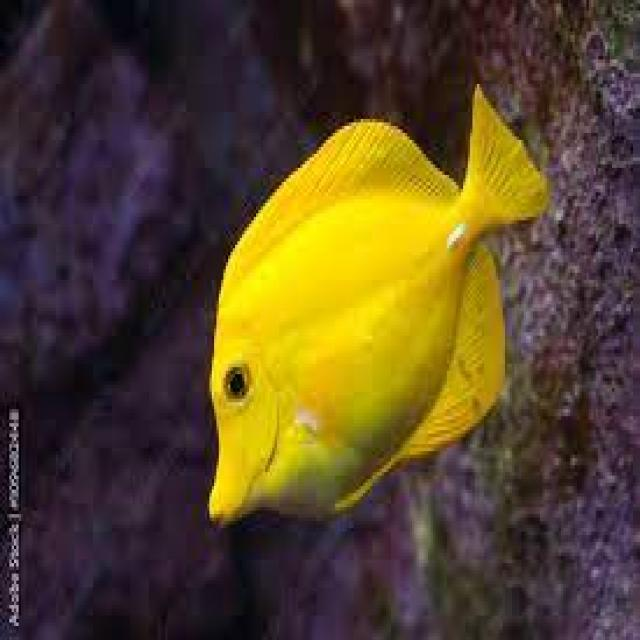YellowTang: (178, 65, 558, 558)
